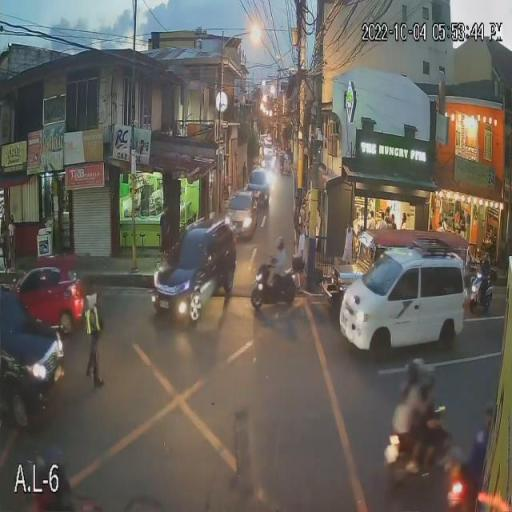helmet: (407, 359, 429, 381), (276, 237, 286, 249)
motorcycle: (383, 406, 455, 486), (250, 261, 298, 312), (468, 266, 494, 316)
rider: (388, 360, 438, 448), (261, 238, 289, 294), (470, 246, 489, 292)
